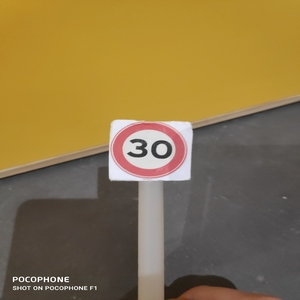30-bord: (111, 120, 189, 180)
